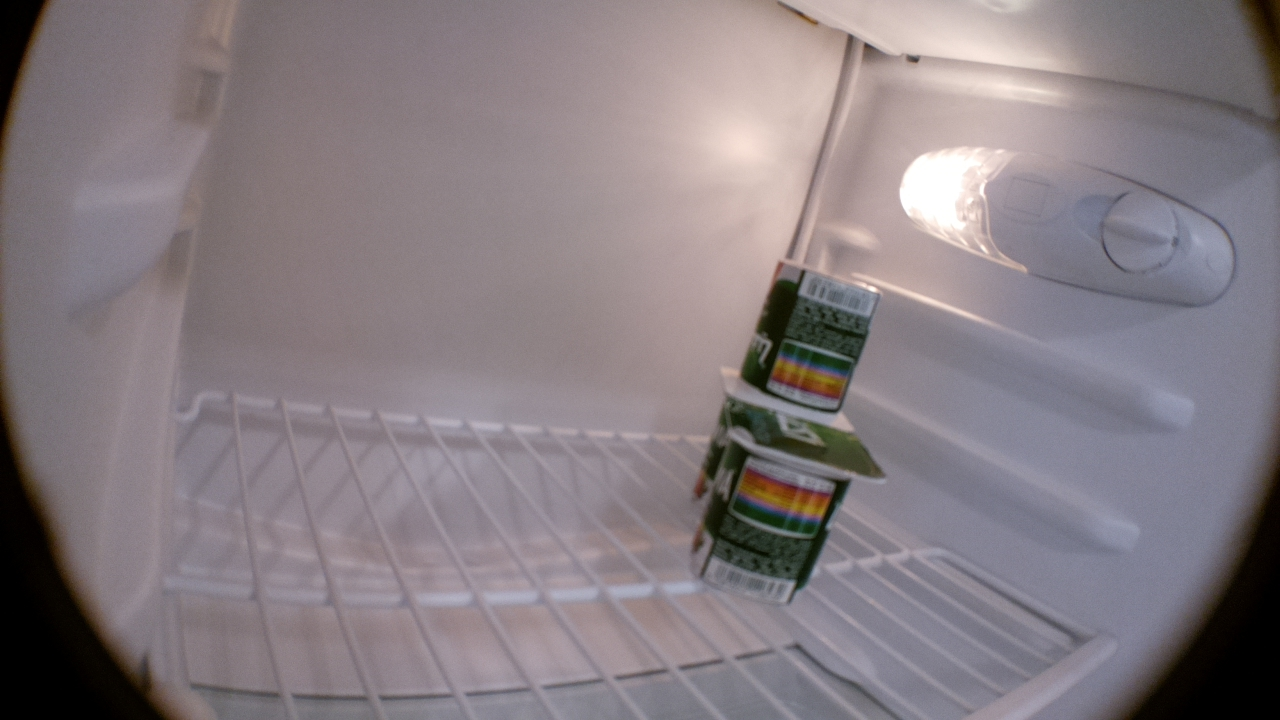yoghurt: (692, 400, 889, 611), (724, 259, 885, 435)
